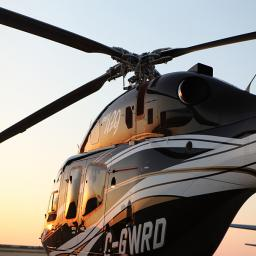helicopter: (1, 5, 256, 253)
